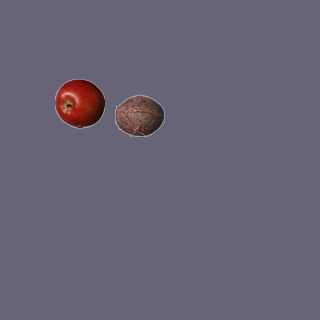Apple Braeburn: (54, 78, 104, 128)
Cocos: (114, 90, 164, 140)
